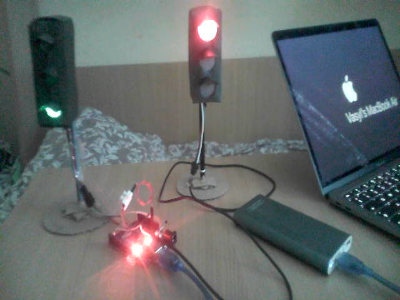trafficlight_green: (28, 21, 72, 124)
trafficlight_red: (191, 11, 223, 101)
